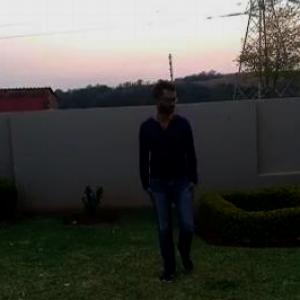follow: (142, 66, 210, 299)
